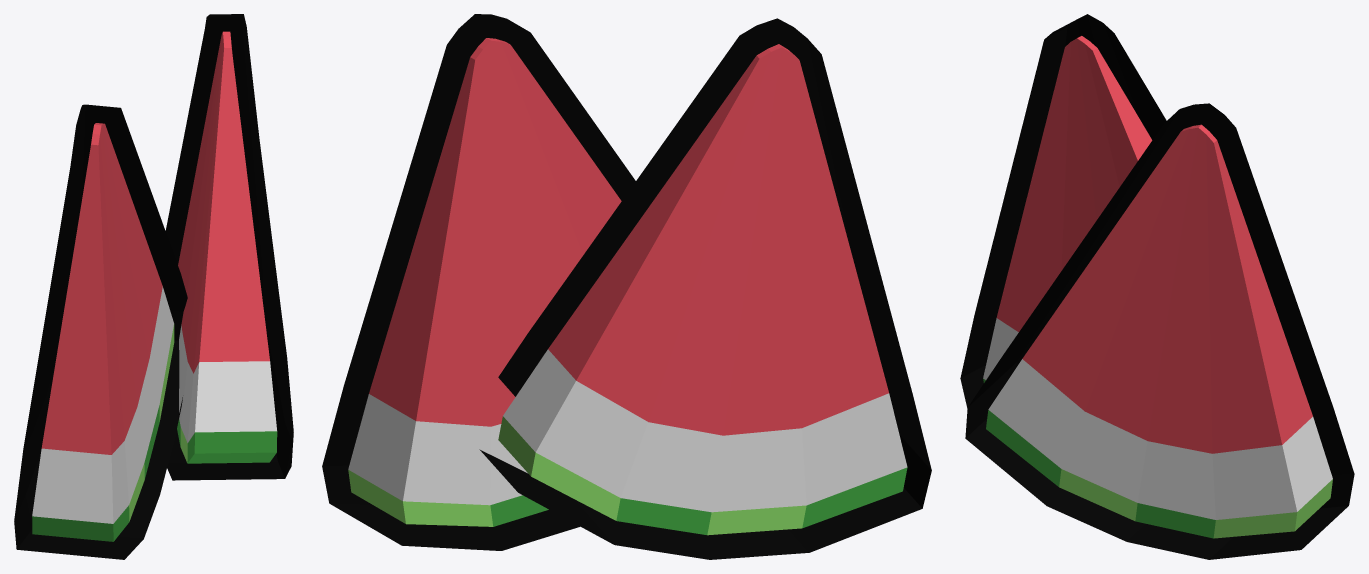
The model's file is watermelon2.fbx.
3 renders of one model, left to right at view 1: azimuth 30°, elevation 25°; view 2: azimuth 150°, elevation 25°; view 3: azimuth 270°, elevation 25°, orthographic. The views are drawn at different scales.
Parts seen in each view (by area): view 1: Watermelon.001, Watermelon.002; view 2: Watermelon.001, Watermelon.002; view 3: Watermelon.002, Watermelon.001.
Part boxes in pixels (bbox=[...]): Watermelon.001: bbox=[14, 104, 187, 559]; Watermelon.002: bbox=[165, 14, 293, 480]; Watermelon.001: bbox=[479, 18, 931, 559]; Watermelon.002: bbox=[322, 14, 635, 550]; Watermelon.002: bbox=[965, 103, 1354, 559]; Watermelon.001: bbox=[960, 14, 1166, 408].
Size of the model in its own units: 78.76 by 83.92 by 69.53.
